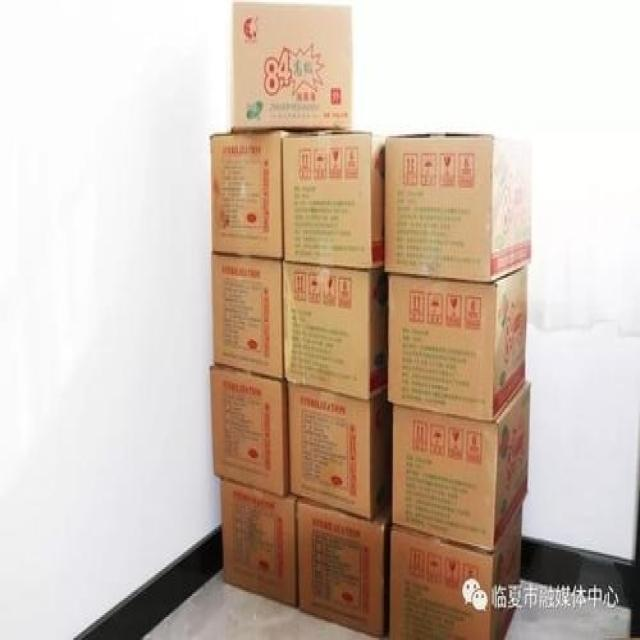box: (392, 383, 530, 552), (384, 132, 531, 284), (388, 266, 527, 422), (389, 504, 524, 640), (225, 2, 353, 132), (282, 263, 388, 400), (283, 130, 385, 270), (289, 385, 392, 519), (211, 130, 316, 259), (297, 496, 392, 638), (210, 364, 291, 498), (220, 479, 298, 607), (211, 255, 284, 379)
